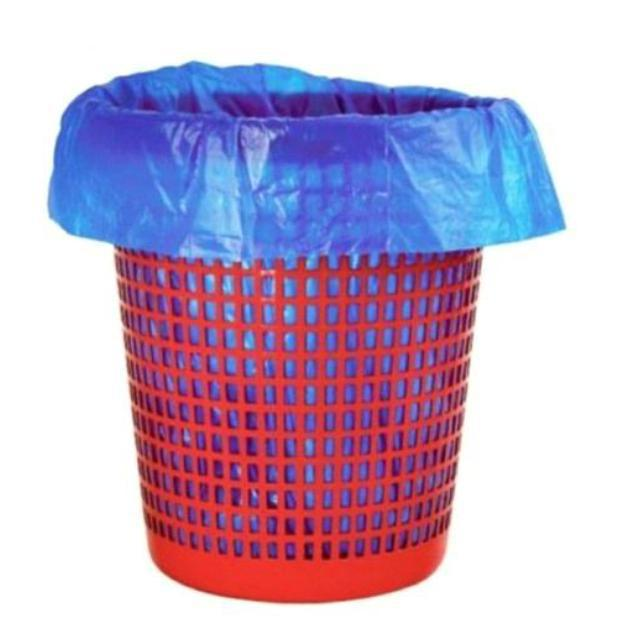Bote de Basura: (56, 59, 539, 601)
